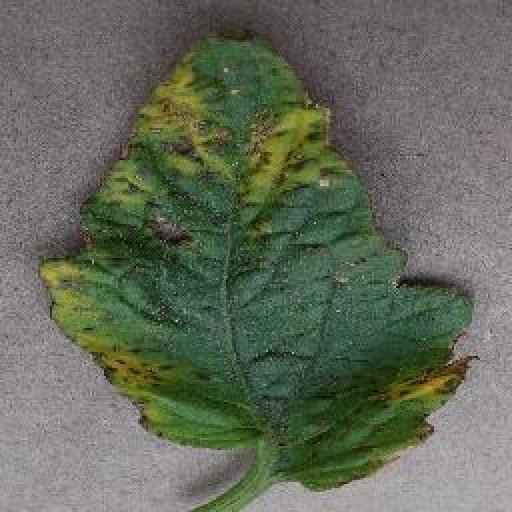Bacterial Spot: (29, 19, 494, 496)
